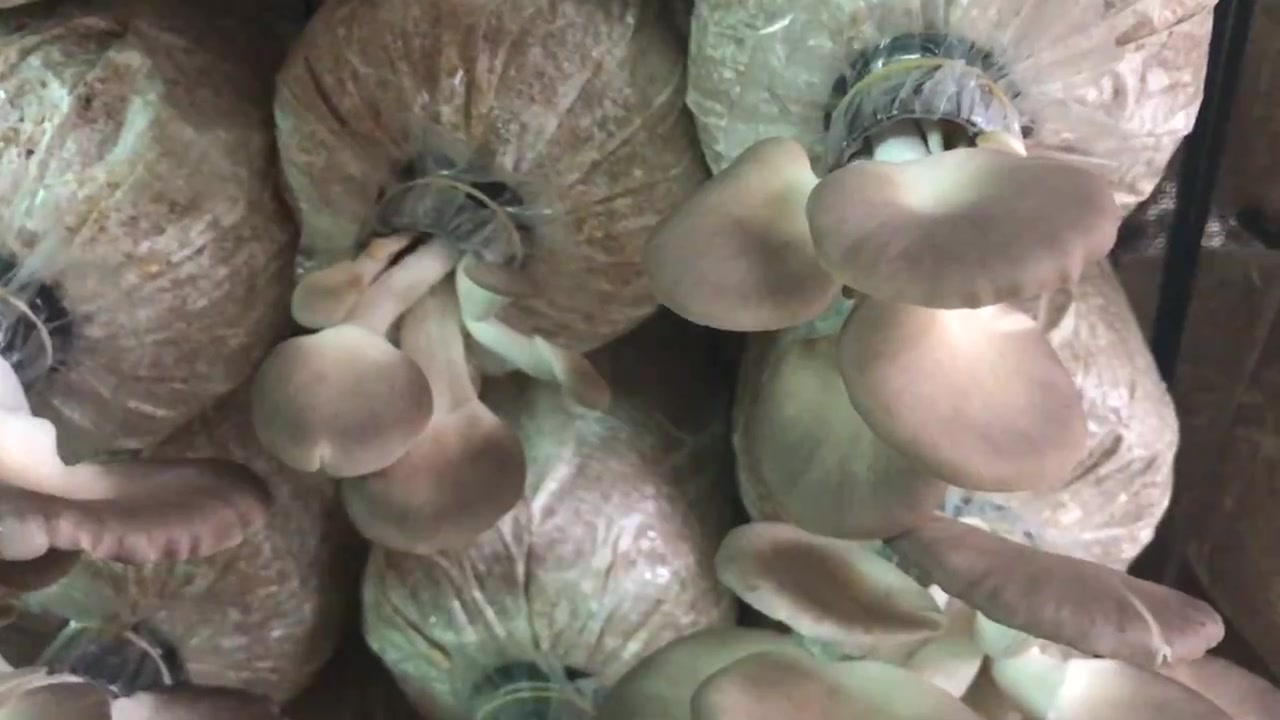nam: (649, 42, 1116, 538), (255, 167, 605, 545), (609, 523, 1280, 720), (1, 285, 271, 560)
